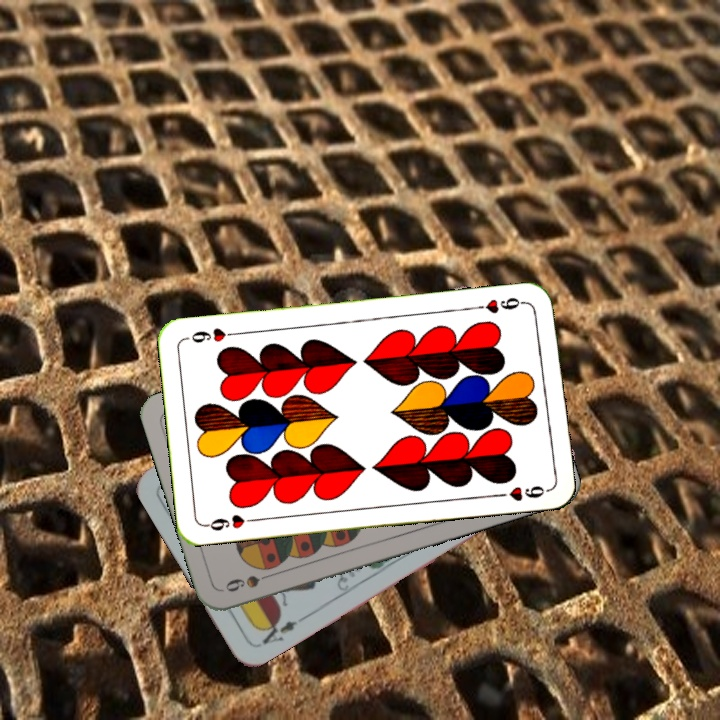EA: (255, 613, 300, 648)
H9: (201, 510, 260, 533), (471, 293, 530, 316)
S9: (221, 568, 278, 595)
